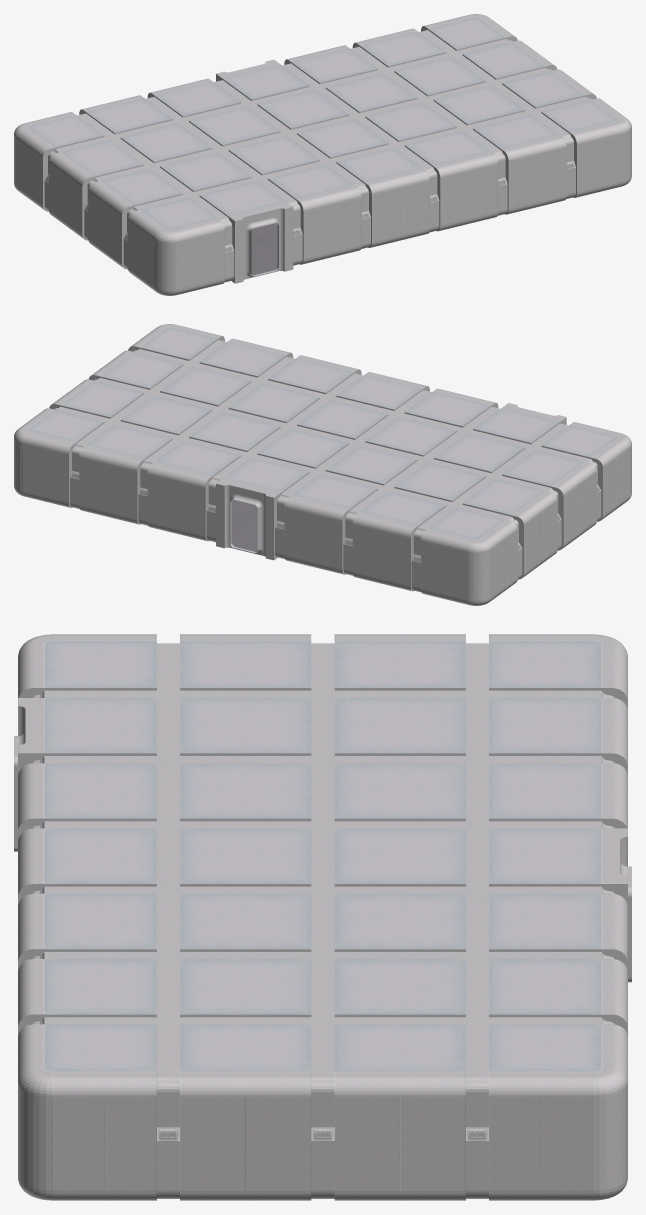
File: thm_spc_corvette_dungeon_r54_armory54_mesh_r54.fbx
The picture shows the model from 3 angles, top to bottom: view 1: azimuth 30°, elevation 25°; view 2: azimuth 150°, elevation 25°; view 3: azimuth 270°, elevation 25°; orthographic projection. The views are drawn at different scales.
Parts seen in each view (by area): view 1: mesh_node; view 2: mesh_node; view 3: mesh_node.
Boxes of the visible parts, <box> form: mesh_node: <box>14,14,631,295</box>; mesh_node: <box>14,324,631,605</box>; mesh_node: <box>14,634,631,1200</box>.
Bounding box in the file's own units: 27.8 × 3.5 × 16.
